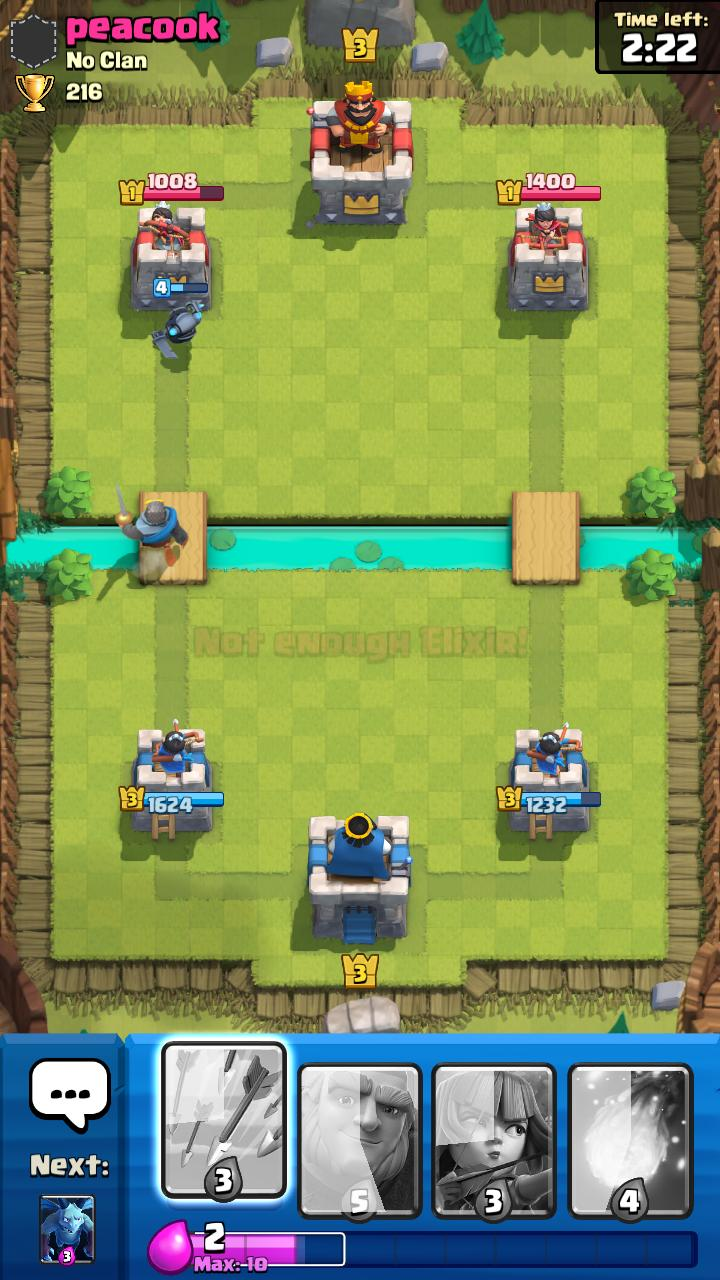ally: (114, 483, 189, 567), (151, 279, 208, 360)
